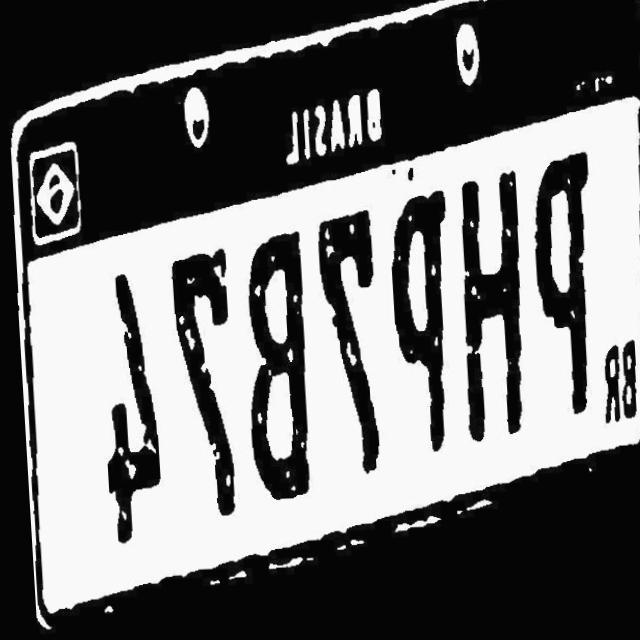4: (91, 273, 161, 547)
7: (308, 210, 381, 480), (167, 250, 236, 519)
b: (236, 233, 310, 504)
h: (449, 174, 527, 446)
p: (525, 156, 599, 421), (382, 193, 456, 457)
